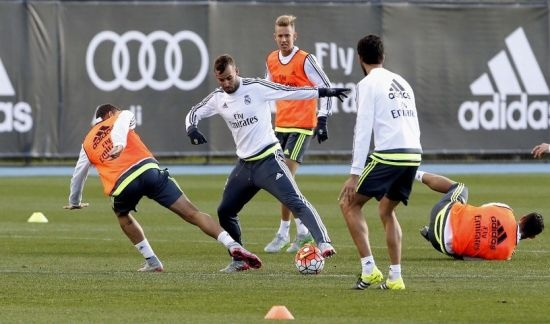falling: (397, 164, 548, 263)
